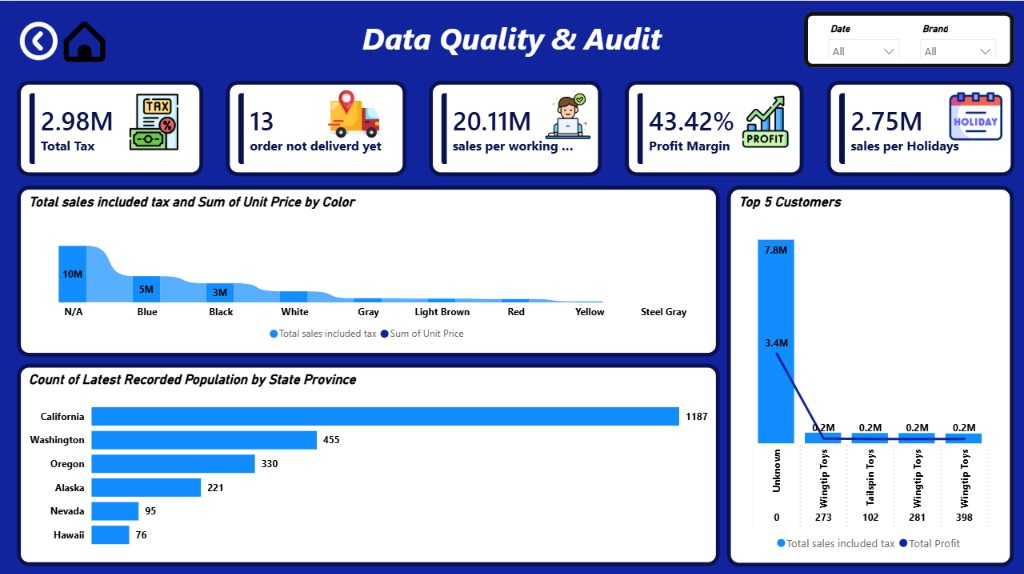

The page's visual inventory and layout, read from the dashboard file:
{"tool":"powerbi","page":{"name":"Data Quality & Audit","canvas":[1280,720],"ordinal":2},"visuals":[{"type":"textbox","box":[361.4,15.7,557.1,70],"z":0},{"type":"lineClusteredColumnComboChart","title":"Top 5 Customers","fields":{"Category":["DimCustomer.Customer Key","DimCustomer.Customer"],"Y":["Measure.Total sales included tax"],"Y2":["Measure.Total Profit"]},"box":[909.2,230.7,358.3,476.1],"z":1000},{"type":"barChart","fields":{"Category":["DimCity.State Province","DimCity.City"],"Y":["Count(DimCity.Latest Recorded Population)"]},"box":[20.9,454,878.5,252.8],"z":2000},{"type":"ribbonChart","fields":{"Category":["DimStockItem.Color"],"Y":["Measure.Total sales included tax","Sum(DimStockItem.Unit Price)"]},"box":[20.9,230.7,878.5,213.5],"z":3000},{"type":"cardVisual","fields":{"Data":["Measure.order not deliverd yet"]},"box":[282.5,99.4,225.8,119],"z":4000},{"type":"cardVisual","fields":{"Data":["Measure.Total Tax"]},"box":[20.9,99.4,233.1,119],"z":5000},{"type":"cardVisual","title":"Profit Margin","fields":{"Data":["Measure.Profit Margin"]},"box":[781.3,99.4,223.3,119],"z":6000},{"type":"cardVisual","fields":{"Data":["Measure.sales per Holidays"]},"box":[1033.1,99.4,234.4,119],"z":7000},{"type":"cardVisual","fields":{"Data":["Measure.sales per working days"]},"box":[536.8,99.4,216,119],"z":8000},{"type":"shape","box":[1004.9,14,262.6,69.9],"z":9000,"group":"g1"},{"type":"image","box":[72.3,24.9,66.3,51.5],"z":9000},{"type":"slicer","fields":{"Values":["DimDate.Date.Variation.Date Hierarchy.Year"]},"box":[1024.5,22.6,109.2,51.5],"z":10000,"group":"g1"},{"type":"slicer","fields":{"Values":["DimCity.State Province"]},"box":[1139.4,22.9,114.4,51.1],"z":11000,"group":"g1"},{"type":"image","box":[19.9,26.7,56.7,47.8],"z":11000},{"type":"group","id":"g1","title":"Group 1","box":[1004.9,14,262.6,69.9],"z":12000}]}

Visuals, with their boxes in screenshot pixels (x1, y1, x2, y2), scaled from the page's 1280x720 canvas onto the 1024x574 screenshot:
textbox: rect(289, 13, 735, 68)
"Top 5 Customers" lineClusteredColumnComboChart: rect(727, 184, 1014, 563)
barChart - DimCity.State Province x DimCity.City: rect(17, 362, 720, 563)
ribbonChart - DimStockItem.Color x Measure.Total sales included tax: rect(17, 184, 720, 354)
cardVisual - Measure.order not deliverd yet: rect(226, 79, 407, 174)
cardVisual - Measure.Total Tax: rect(17, 79, 203, 174)
"Profit Margin" cardVisual: rect(625, 79, 804, 174)
cardVisual - Measure.sales per Holidays: rect(826, 79, 1014, 174)
cardVisual - Measure.sales per working days: rect(429, 79, 602, 174)
shape: rect(804, 11, 1014, 67)
image: rect(58, 20, 111, 61)
slicer - DimDate.Date.Variation.Date Hierarchy.Year: rect(820, 18, 907, 59)
slicer - DimCity.State Province: rect(912, 18, 1003, 59)
image: rect(16, 21, 61, 59)
"Group 1" group: rect(804, 11, 1014, 67)
